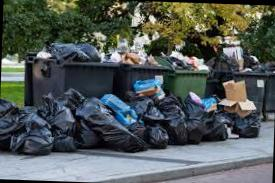trash: (0, 68, 263, 166), (22, 26, 107, 62), (205, 34, 264, 72), (160, 38, 210, 72), (108, 34, 162, 64)
trash_can_overflow: (17, 19, 121, 158), (110, 23, 170, 151), (159, 37, 216, 146), (210, 34, 268, 139), (252, 31, 275, 137)
